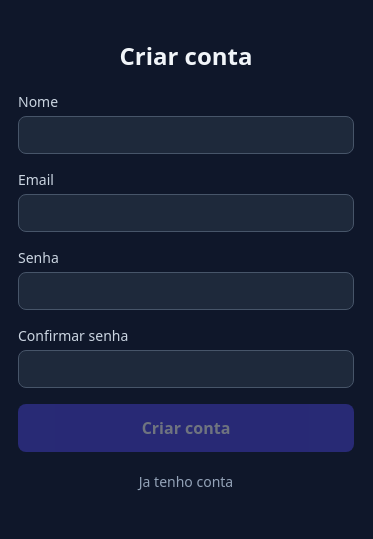
Test: Register › rejects mismatched passwords
Type "Joao" into the field labelled "Nome".
click(186, 135); type("Joao")  # box left=18, top=116, right=354, bottom=154
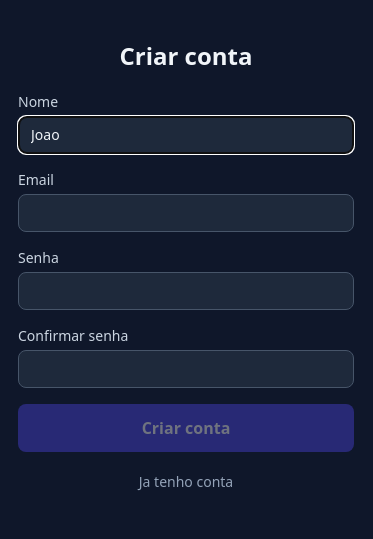
Type "joao@example.com" into the field labelled "Email".
click(186, 213); type("joao@example.com")  # box left=18, top=194, right=354, bottom=232
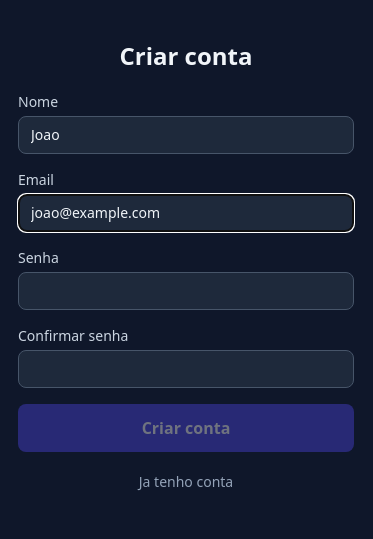
Type "supersecret" into the password field labelled "Senha".
click(186, 291); type("supersecret")  # box left=18, top=272, right=354, bottom=310
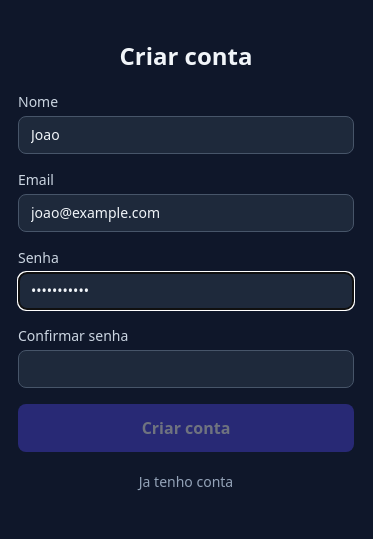
Type "different1" into the password field labelled "Confirmar senha".
click(186, 369); type("different1")  # box left=18, top=350, right=354, bottom=388
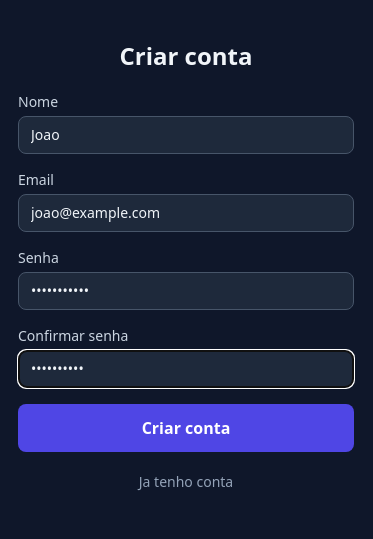
Click the button "Criar conta".
click(186, 428)  # box left=18, top=404, right=354, bottom=452
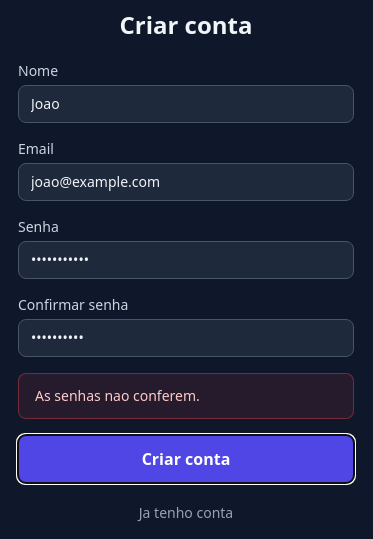
Expected: the text "As senhas nao conferem." is shown, left=35, top=386, right=200, bottom=405
